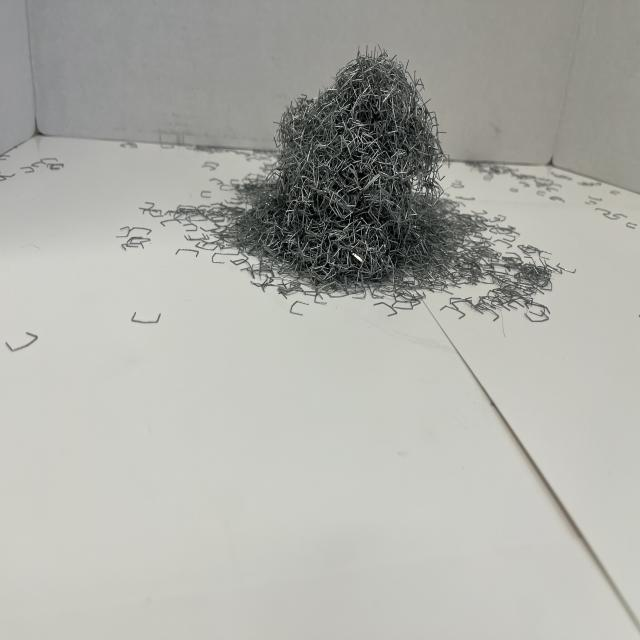staples: (222, 42, 452, 288)
